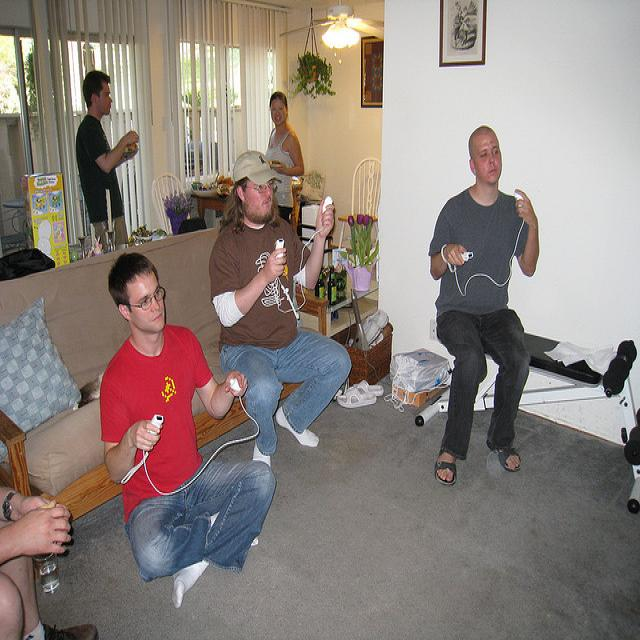chair: (338, 158, 383, 251), (151, 173, 188, 235)
dining table: (185, 172, 233, 209)
